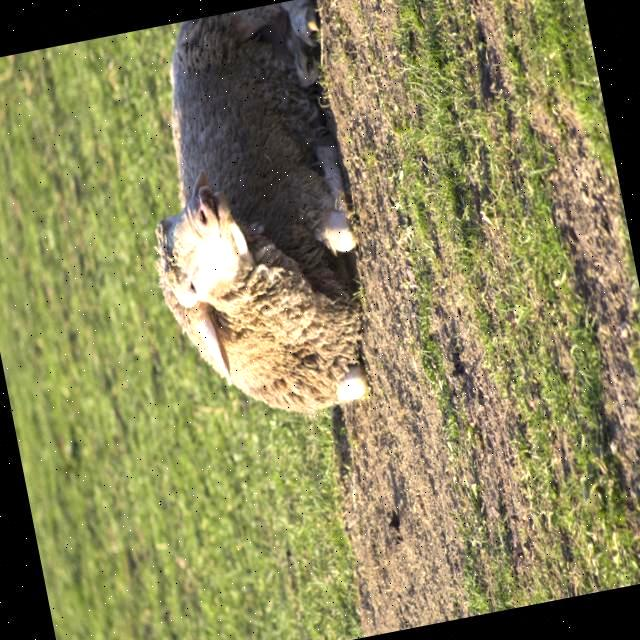sheep: (155, 1, 369, 418)
